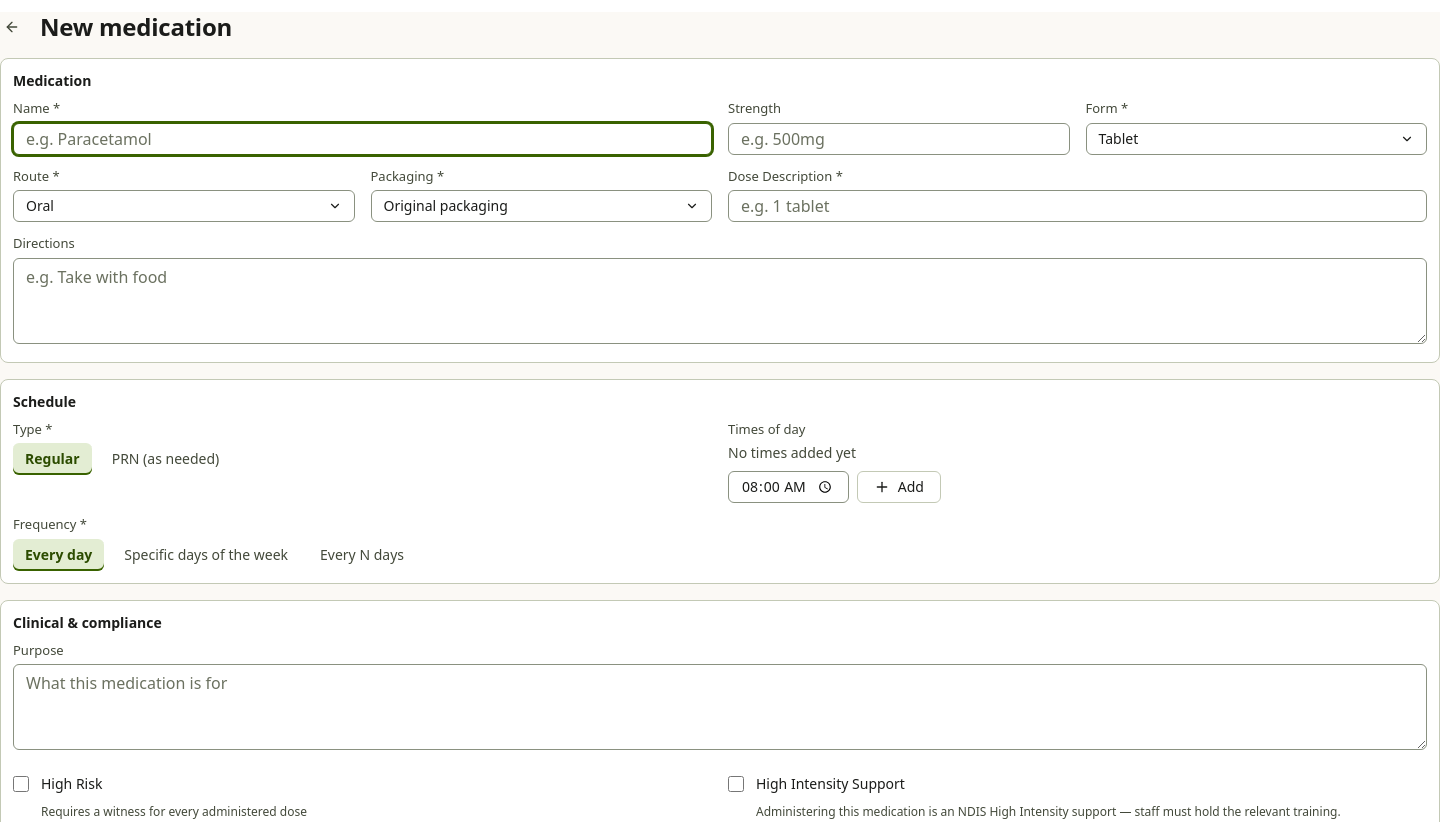
Scenario: MedicationFormPage frequency controls › shows the interval + anchor date controls only when Every N days is selected
The image size is (1440, 822).
Click the radio button labelled "Every N days".
click(362, 554)  # box [308,538,416,570]
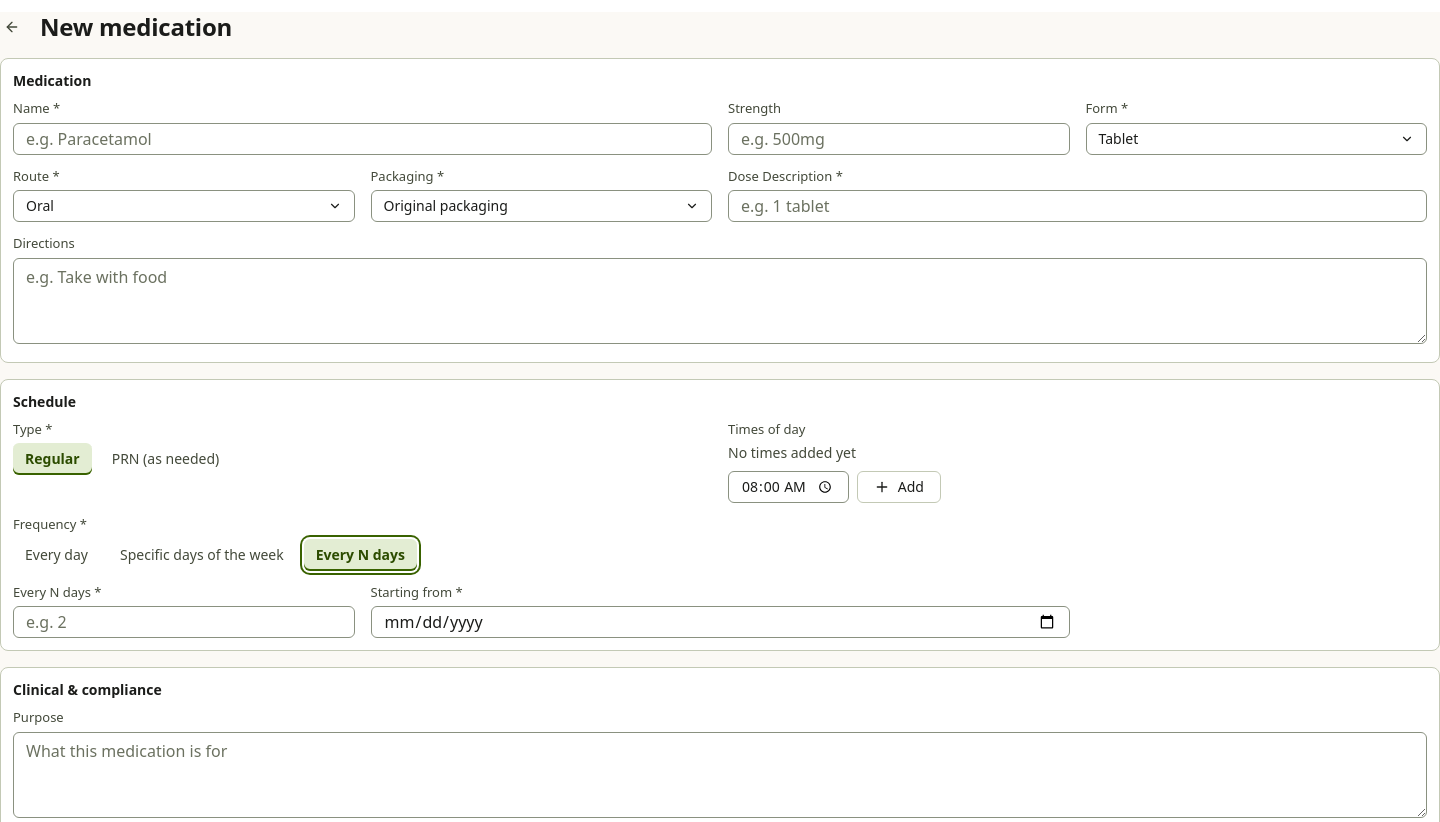
Check: the text "Starting from *" is shown, box [370,582,463,600]
